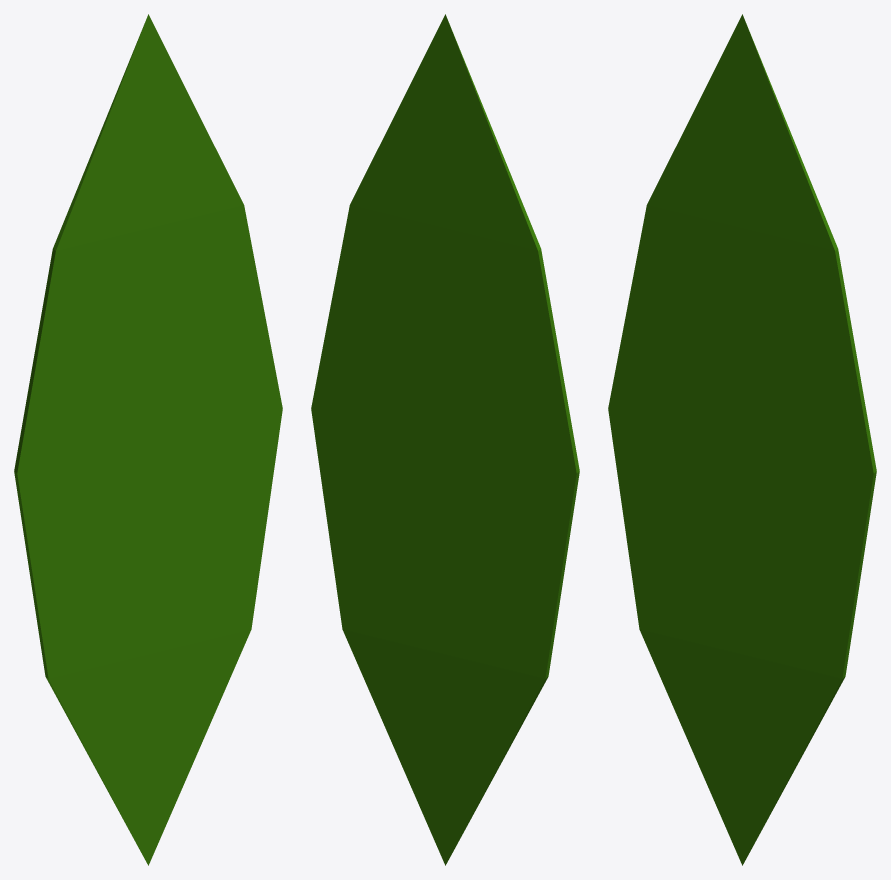
Rendered from Leave_e_01.fbx.
3 renders of one model, left to right at view 1: azimuth 30°, elevation 25°; view 2: azimuth 150°, elevation 25°; view 3: azimuth 330°, elevation 25°, orthographic.
Parts seen in each view (by area): view 1: Leave_e_01_LOD0; view 2: Leave_e_01_LOD0; view 3: Leave_e_01_LOD0.
Part boxes in pixels (box(x1,y1,x2,y2)): Leave_e_01_LOD0: box(14, 14, 282, 865); Leave_e_01_LOD0: box(311, 14, 579, 865); Leave_e_01_LOD0: box(608, 14, 876, 865).
Size of what is drawn, in the model's own units: 1.29 by 3.95 by 0.0263.
